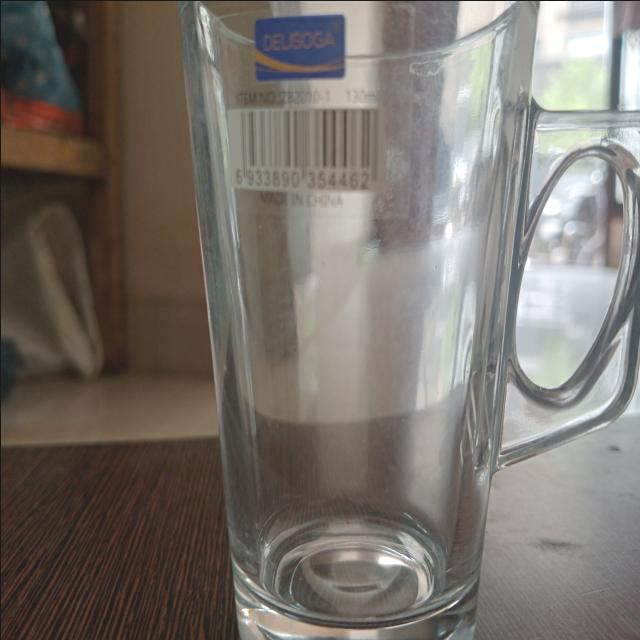glass-VX4N: (176, 0, 640, 640)
